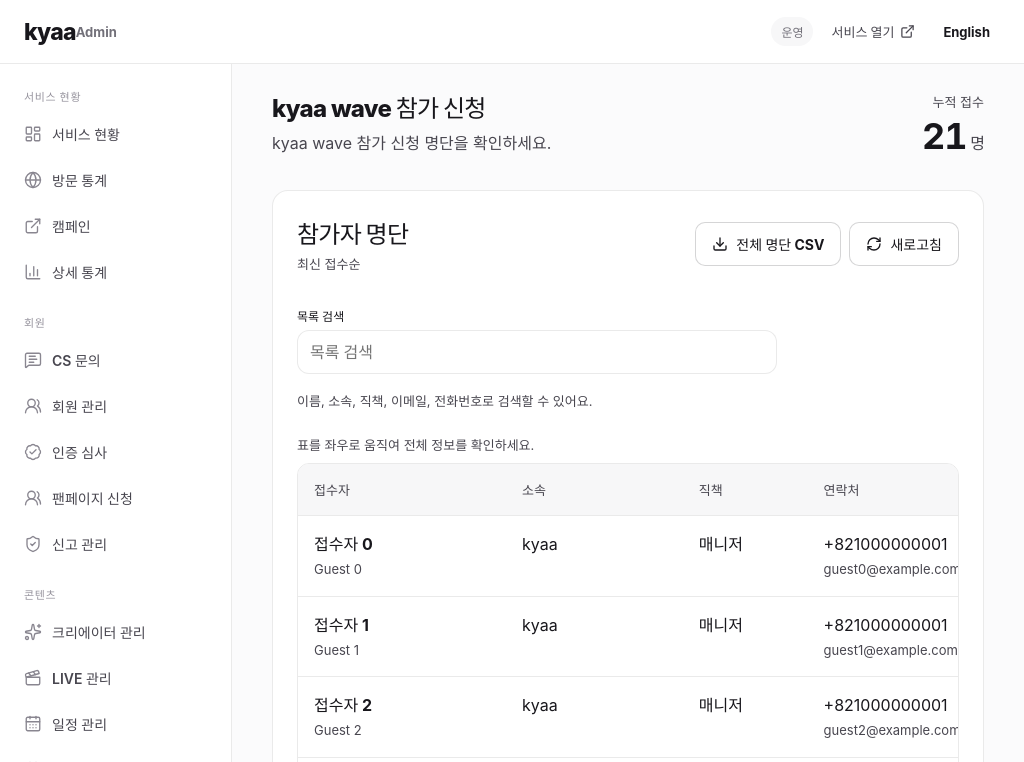
Scenario: kyaa wave registration list › clears a search with no results
This screenshot has width=1024, height=762.
Expected: the text "접수자 0" is shown, [314,534,373,554]
In the search field: (537, 352) [297,330,777,374], type "없는 검색어"
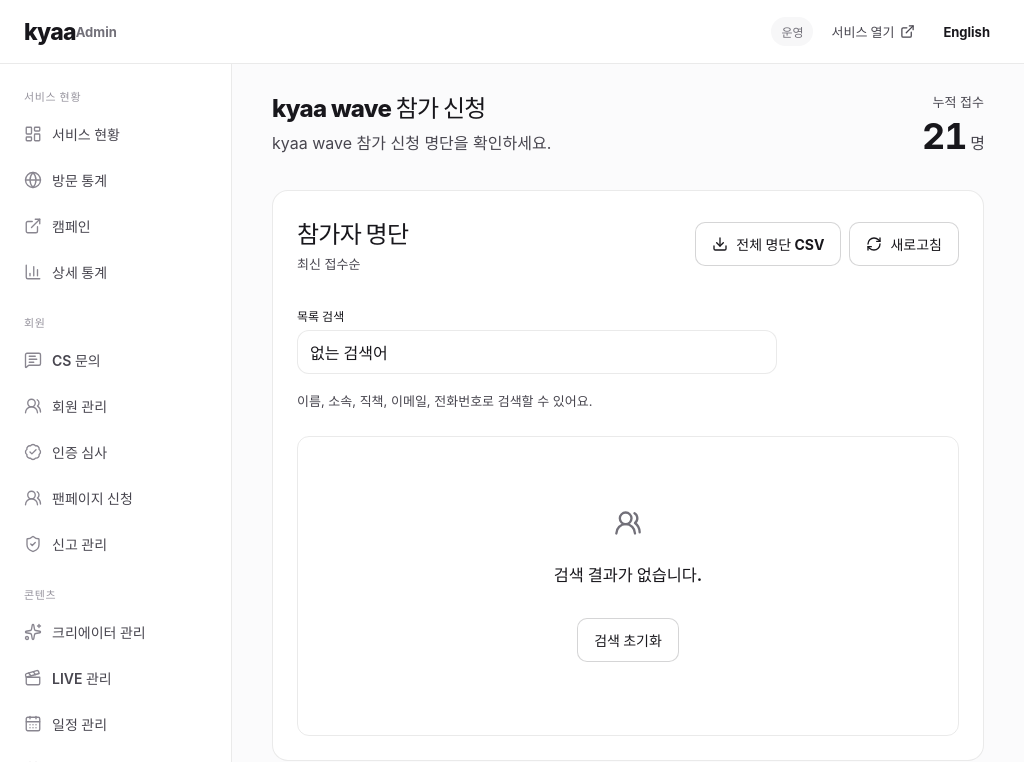
Result: the heading "검색 결과가 없습니다." is shown at [554,562,702,586]
Click the button "검색 초기화": (628, 640) [577,618,679,662]
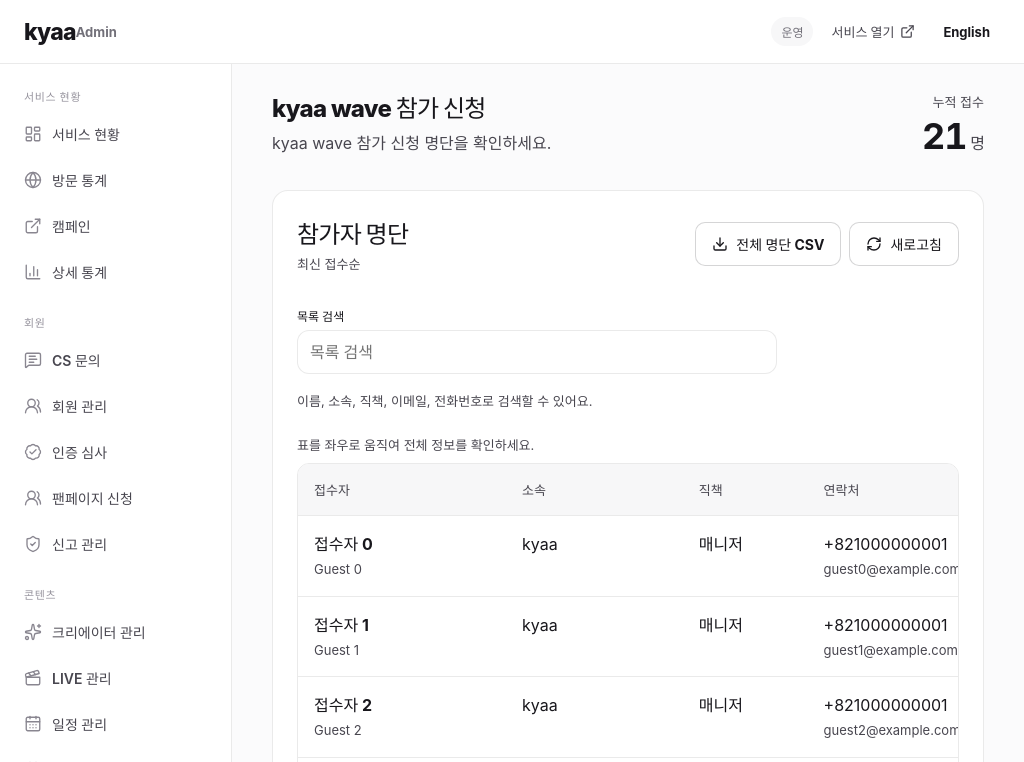
Result: the text "접수자 0" is shown at [314,534,373,554]
